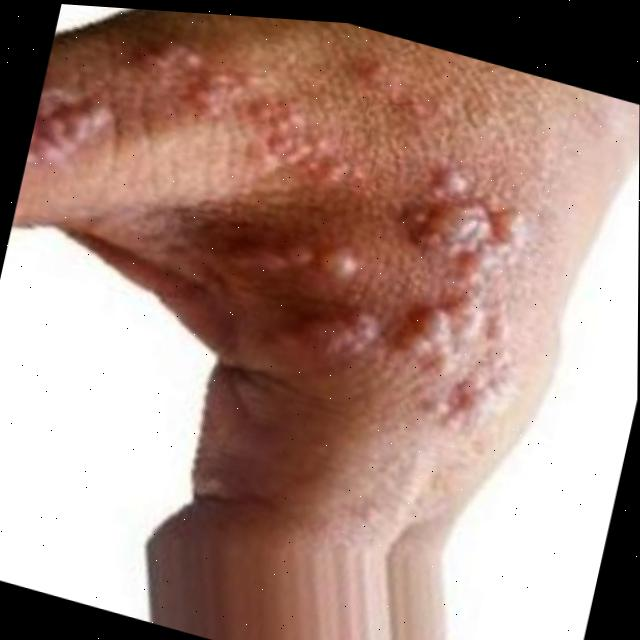Shingles: (240, 134, 538, 411), (27, 65, 135, 181), (151, 28, 267, 120)
